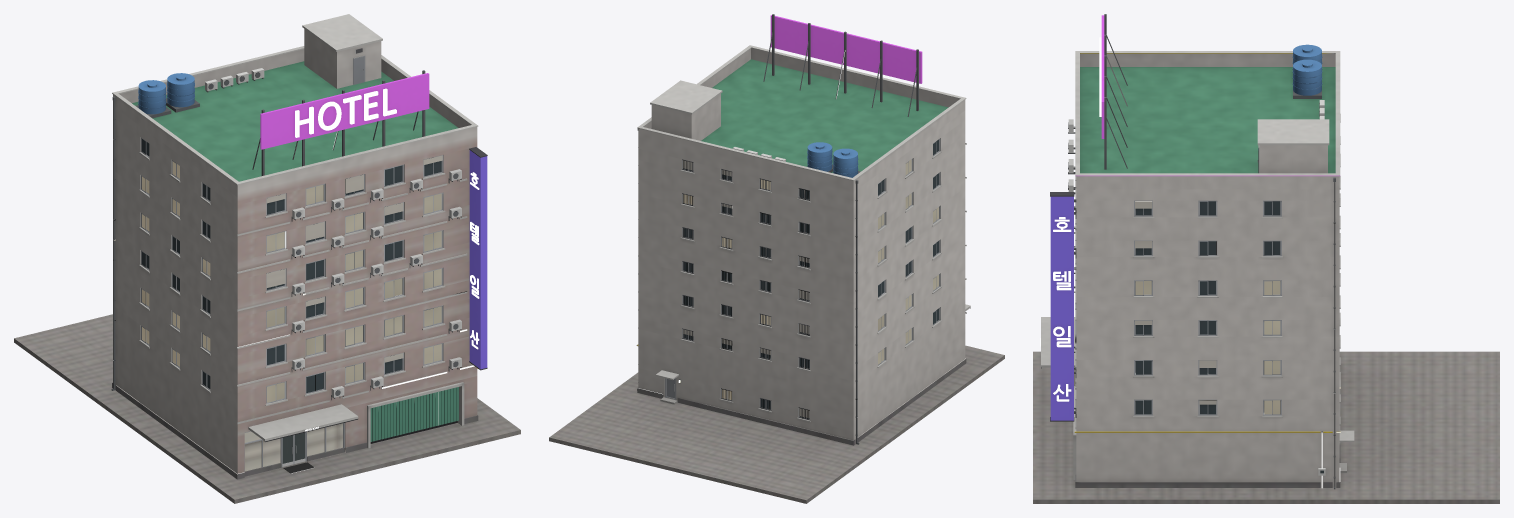
Rendered from IlsanMotel01.fbx.
3 renders of one model, left to right at view 1: azimuth 30°, elevation 25°; view 2: azimuth 150°, elevation 25°; view 3: azimuth 270°, elevation 25°, orthographic. The views are drawn at different scales.
Parts seen in each view (by area): view 1: IlsanMotel01; view 2: IlsanMotel01; view 3: IlsanMotel01.
Part boxes in pixels (box(x1,y1,x2,y2)): IlsanMotel01: box(14, 14, 520, 503); IlsanMotel01: box(549, 14, 1004, 503); IlsanMotel01: box(1033, 14, 1499, 503).
Bounding box in the file's own units: 23.9 × 28.2 × 31.9.
Materials: 1 (1 with a texture image).
